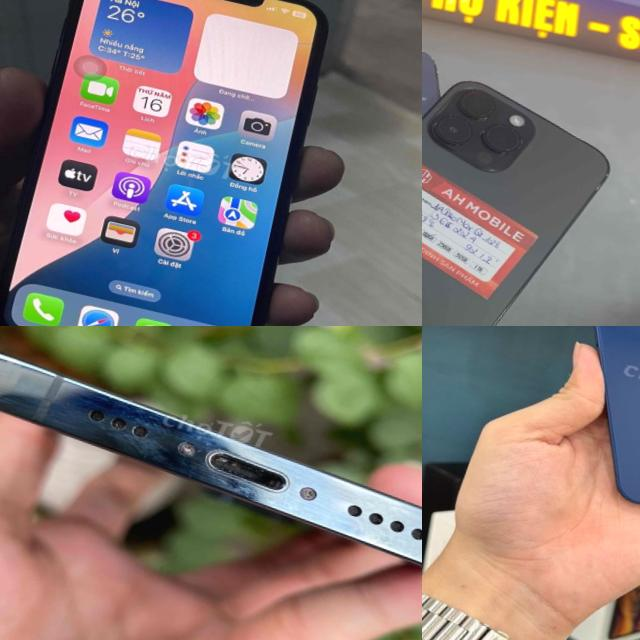gen_12_13: (0, 329, 422, 596), (531, 326, 640, 535)
gen_14: (422, 81, 608, 326)
gen_x_xs: (0, 0, 349, 326)
scratch: (0, 363, 322, 528)
